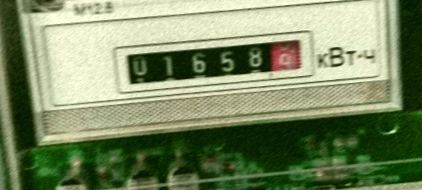0: (130, 55, 149, 78)
1: (160, 54, 176, 79)
5: (218, 49, 236, 75)
6: (189, 51, 209, 77)
8: (245, 46, 265, 70)
9: (275, 51, 293, 74)
screen: (109, 24, 320, 103)
